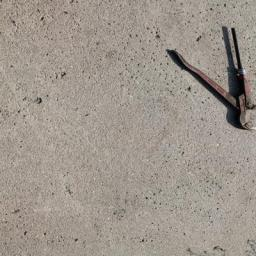FOD: (168, 25, 256, 136)
